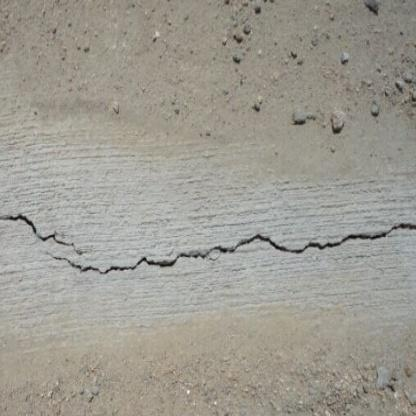Cracks: (0, 207, 416, 280)
